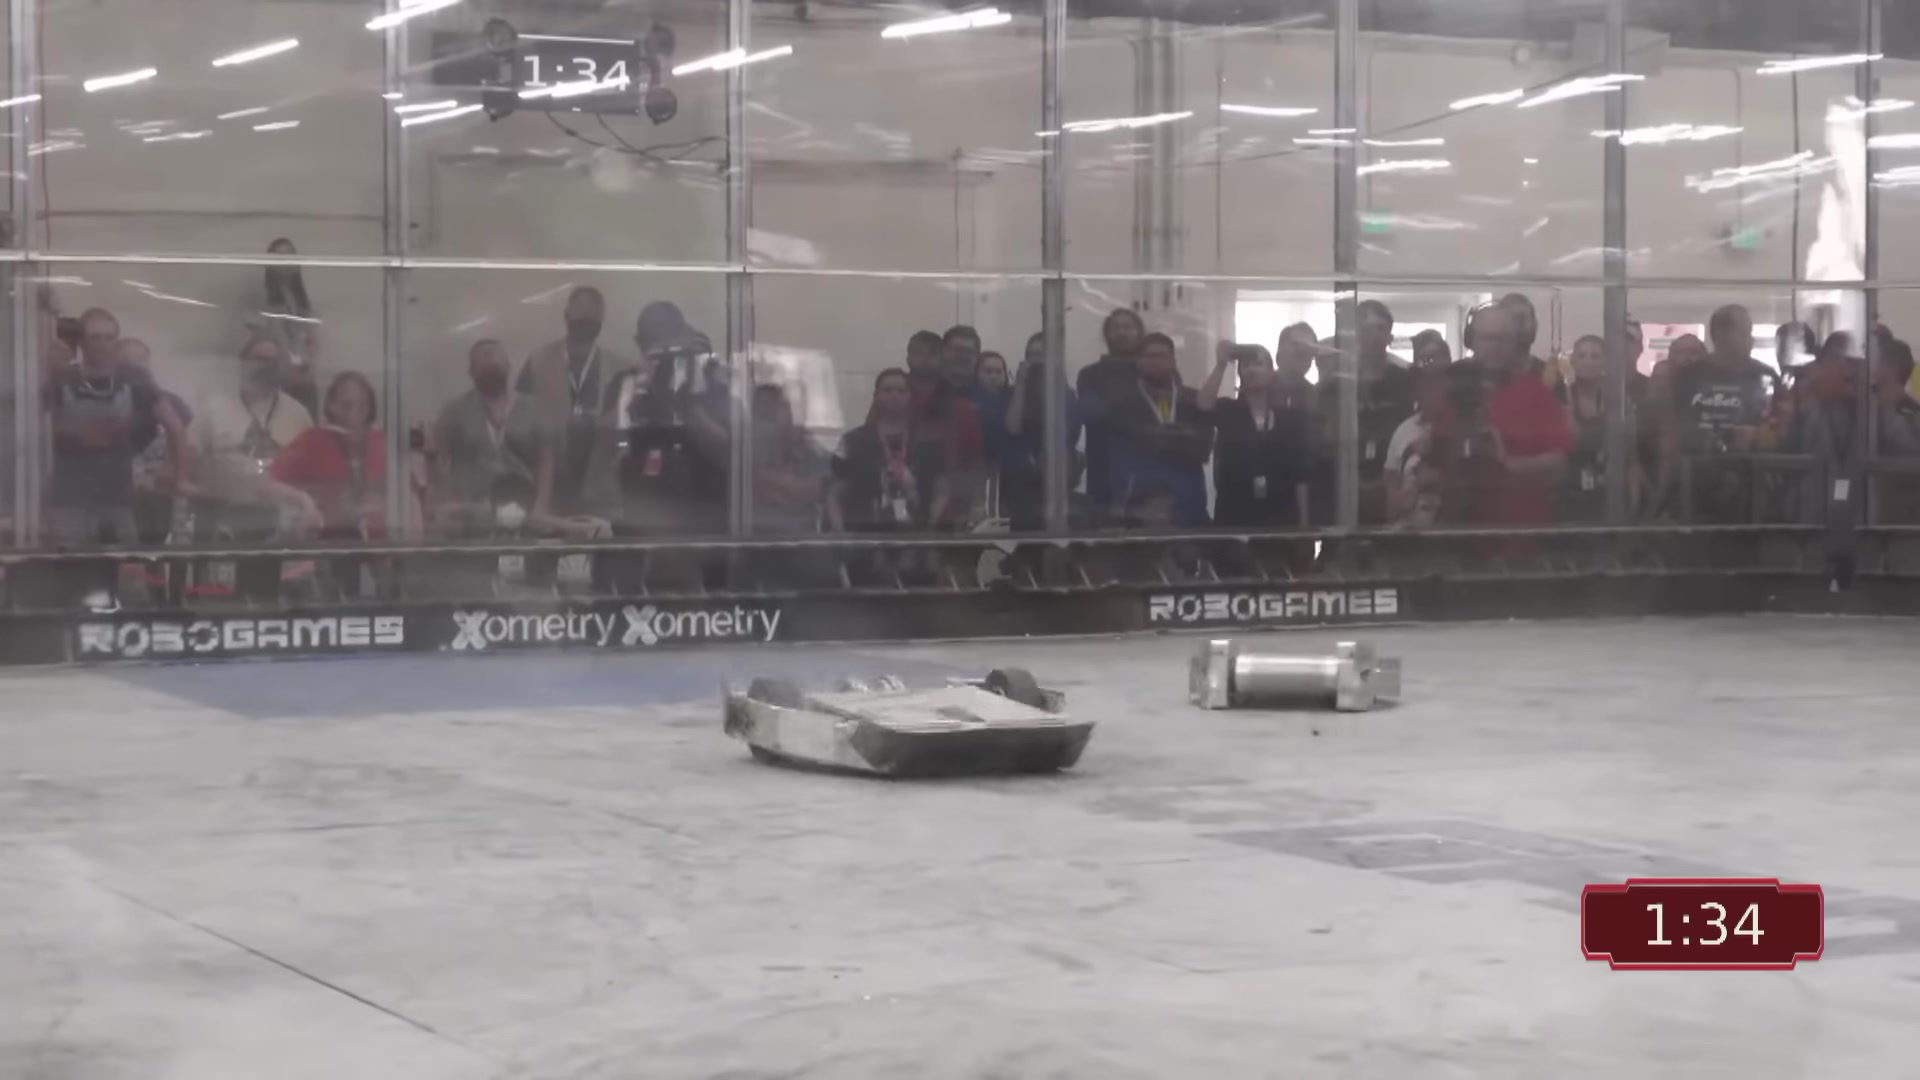combatbot: (721, 671, 1087, 774), (1184, 642, 1395, 711)
